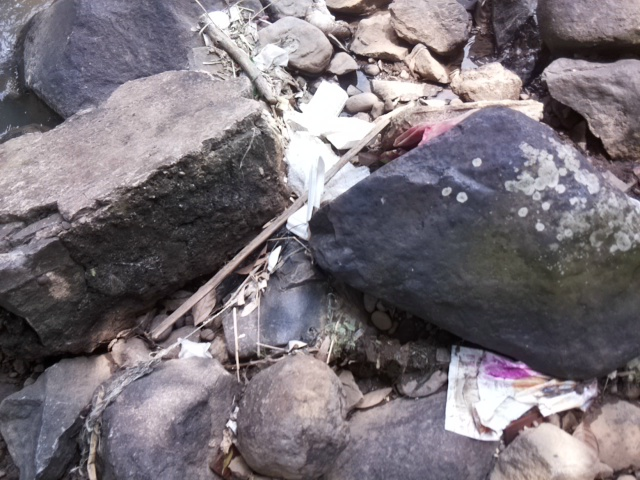Sampah_Plastik: (446, 345, 590, 438)
Sampah_Styrofoam: (287, 85, 370, 242)
